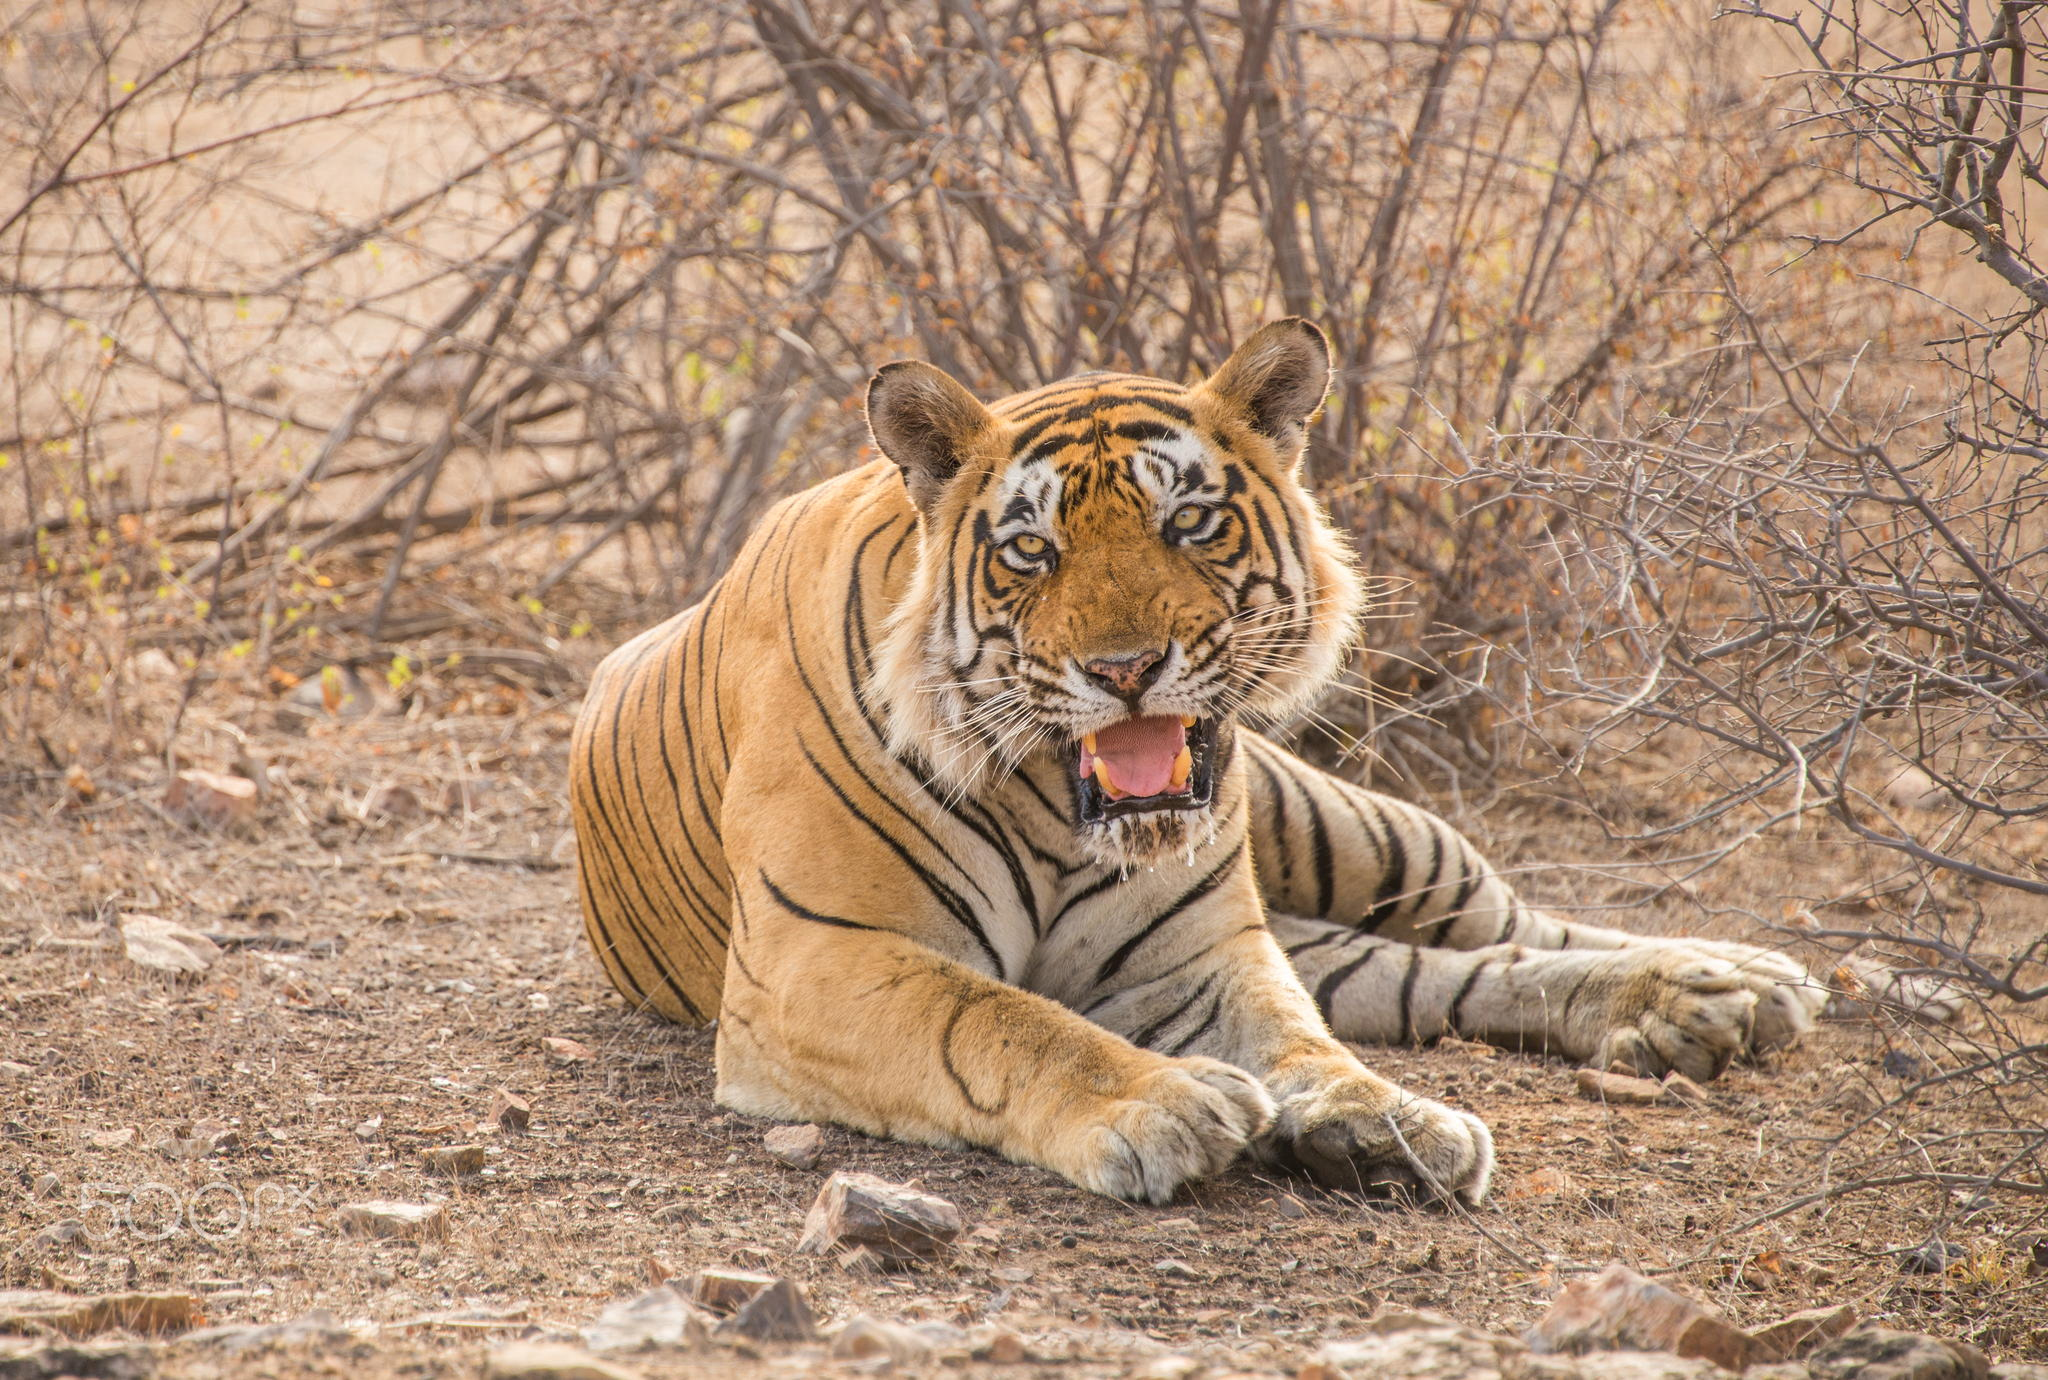tiger: (547, 327, 1759, 1246)
